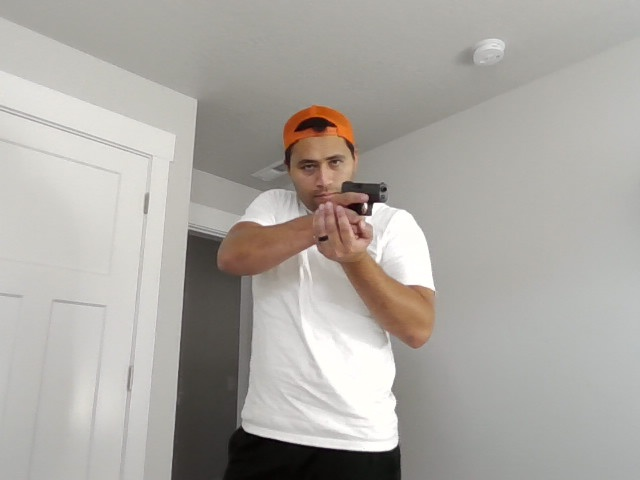handgun: (341, 178, 389, 216)
